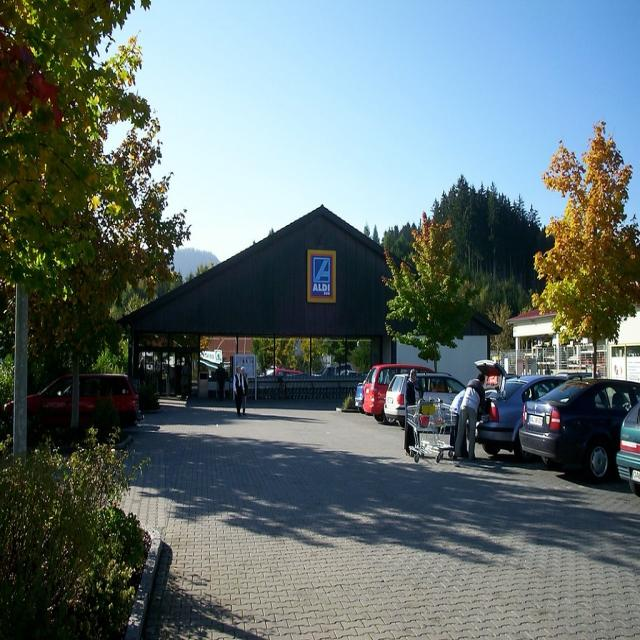aldi: (309, 252, 338, 304)
